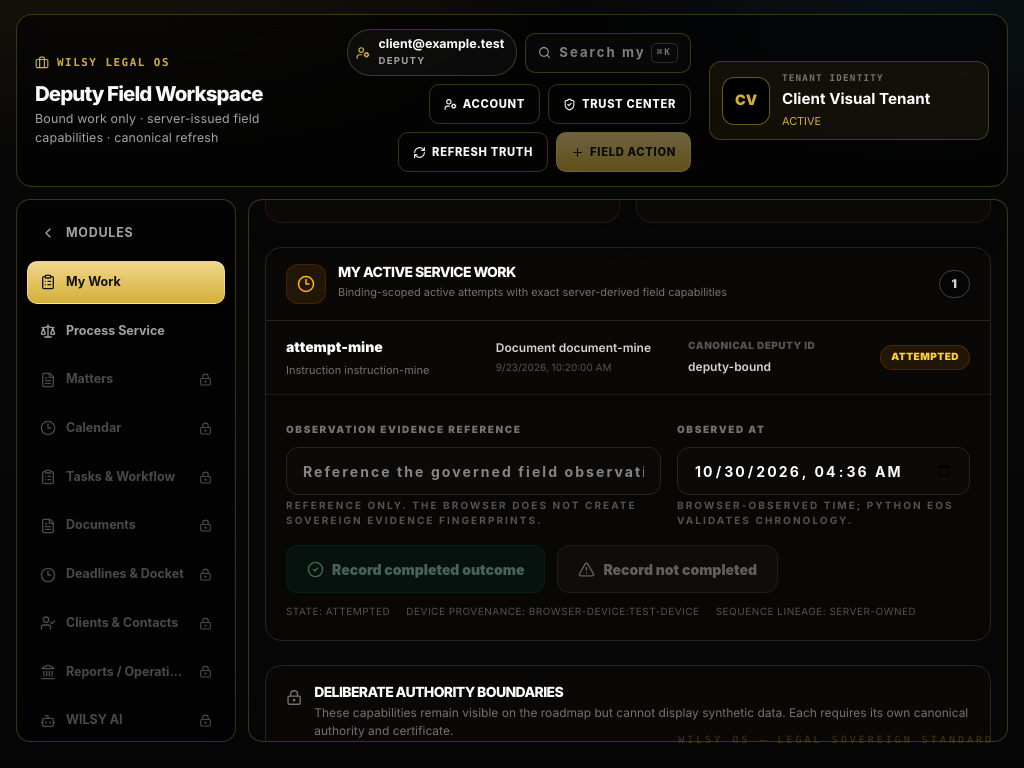
it: L8-7D8 governed Legal Operations cockpit › records a terminal outcome and confirms disappearance from canonical active work
The image size is (1024, 768).
(page scrolled)
Type "photo:served-attempt-mine" into the field named "Observation evidence reference for attempt-mine" at x=474, y=471, box [286,447,661,495]
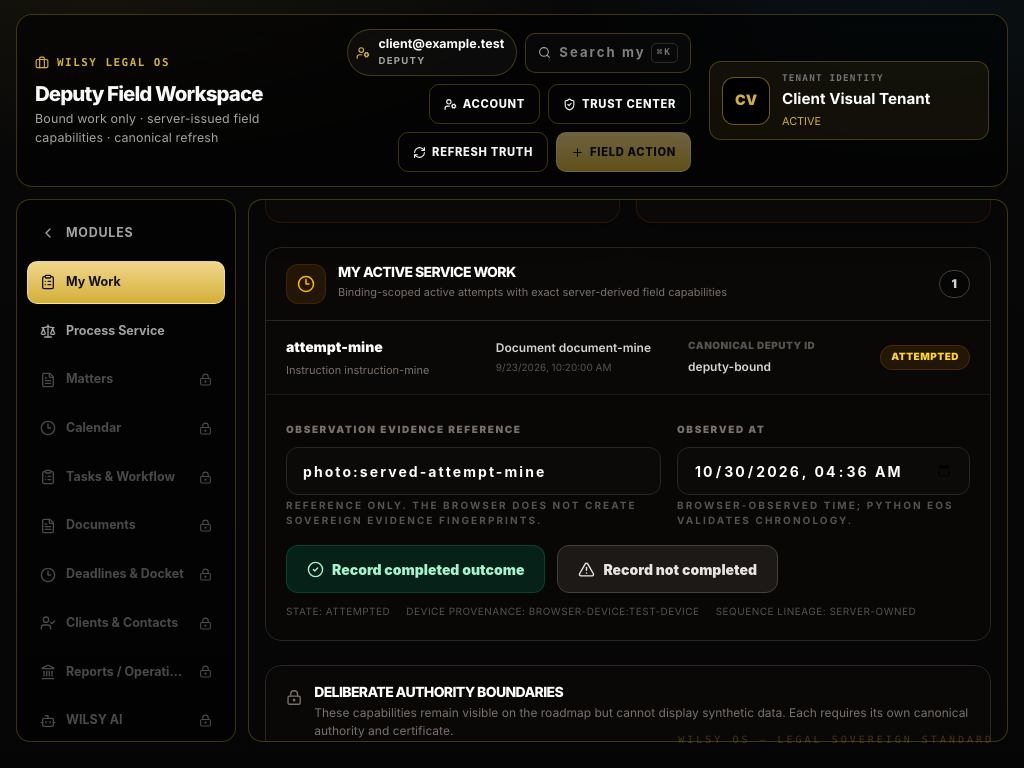
Check: the button "Record completed outcome" is enabled
Click the button "Record completed outcome" at x=416, y=569, box [286,545,545,593]
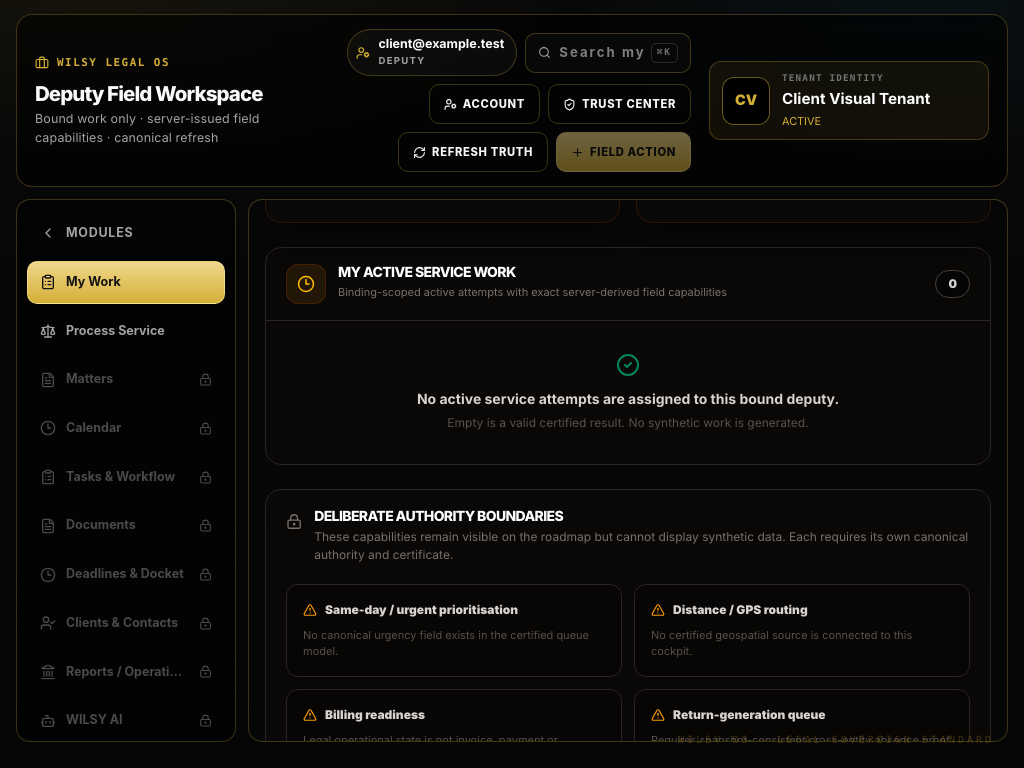
Check: the text "attempt-mine" is gone
Check: the text "No active service attempts are assigned" is shown, box [417,390,839,408]
